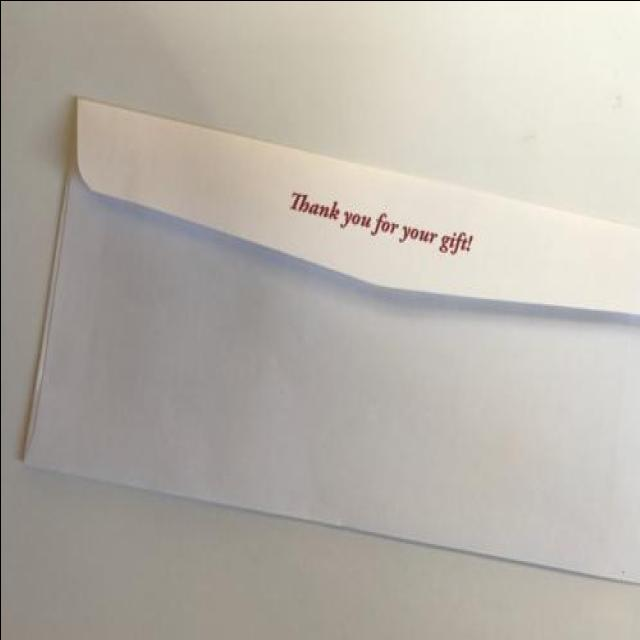kertas: (14, 94, 640, 590)
